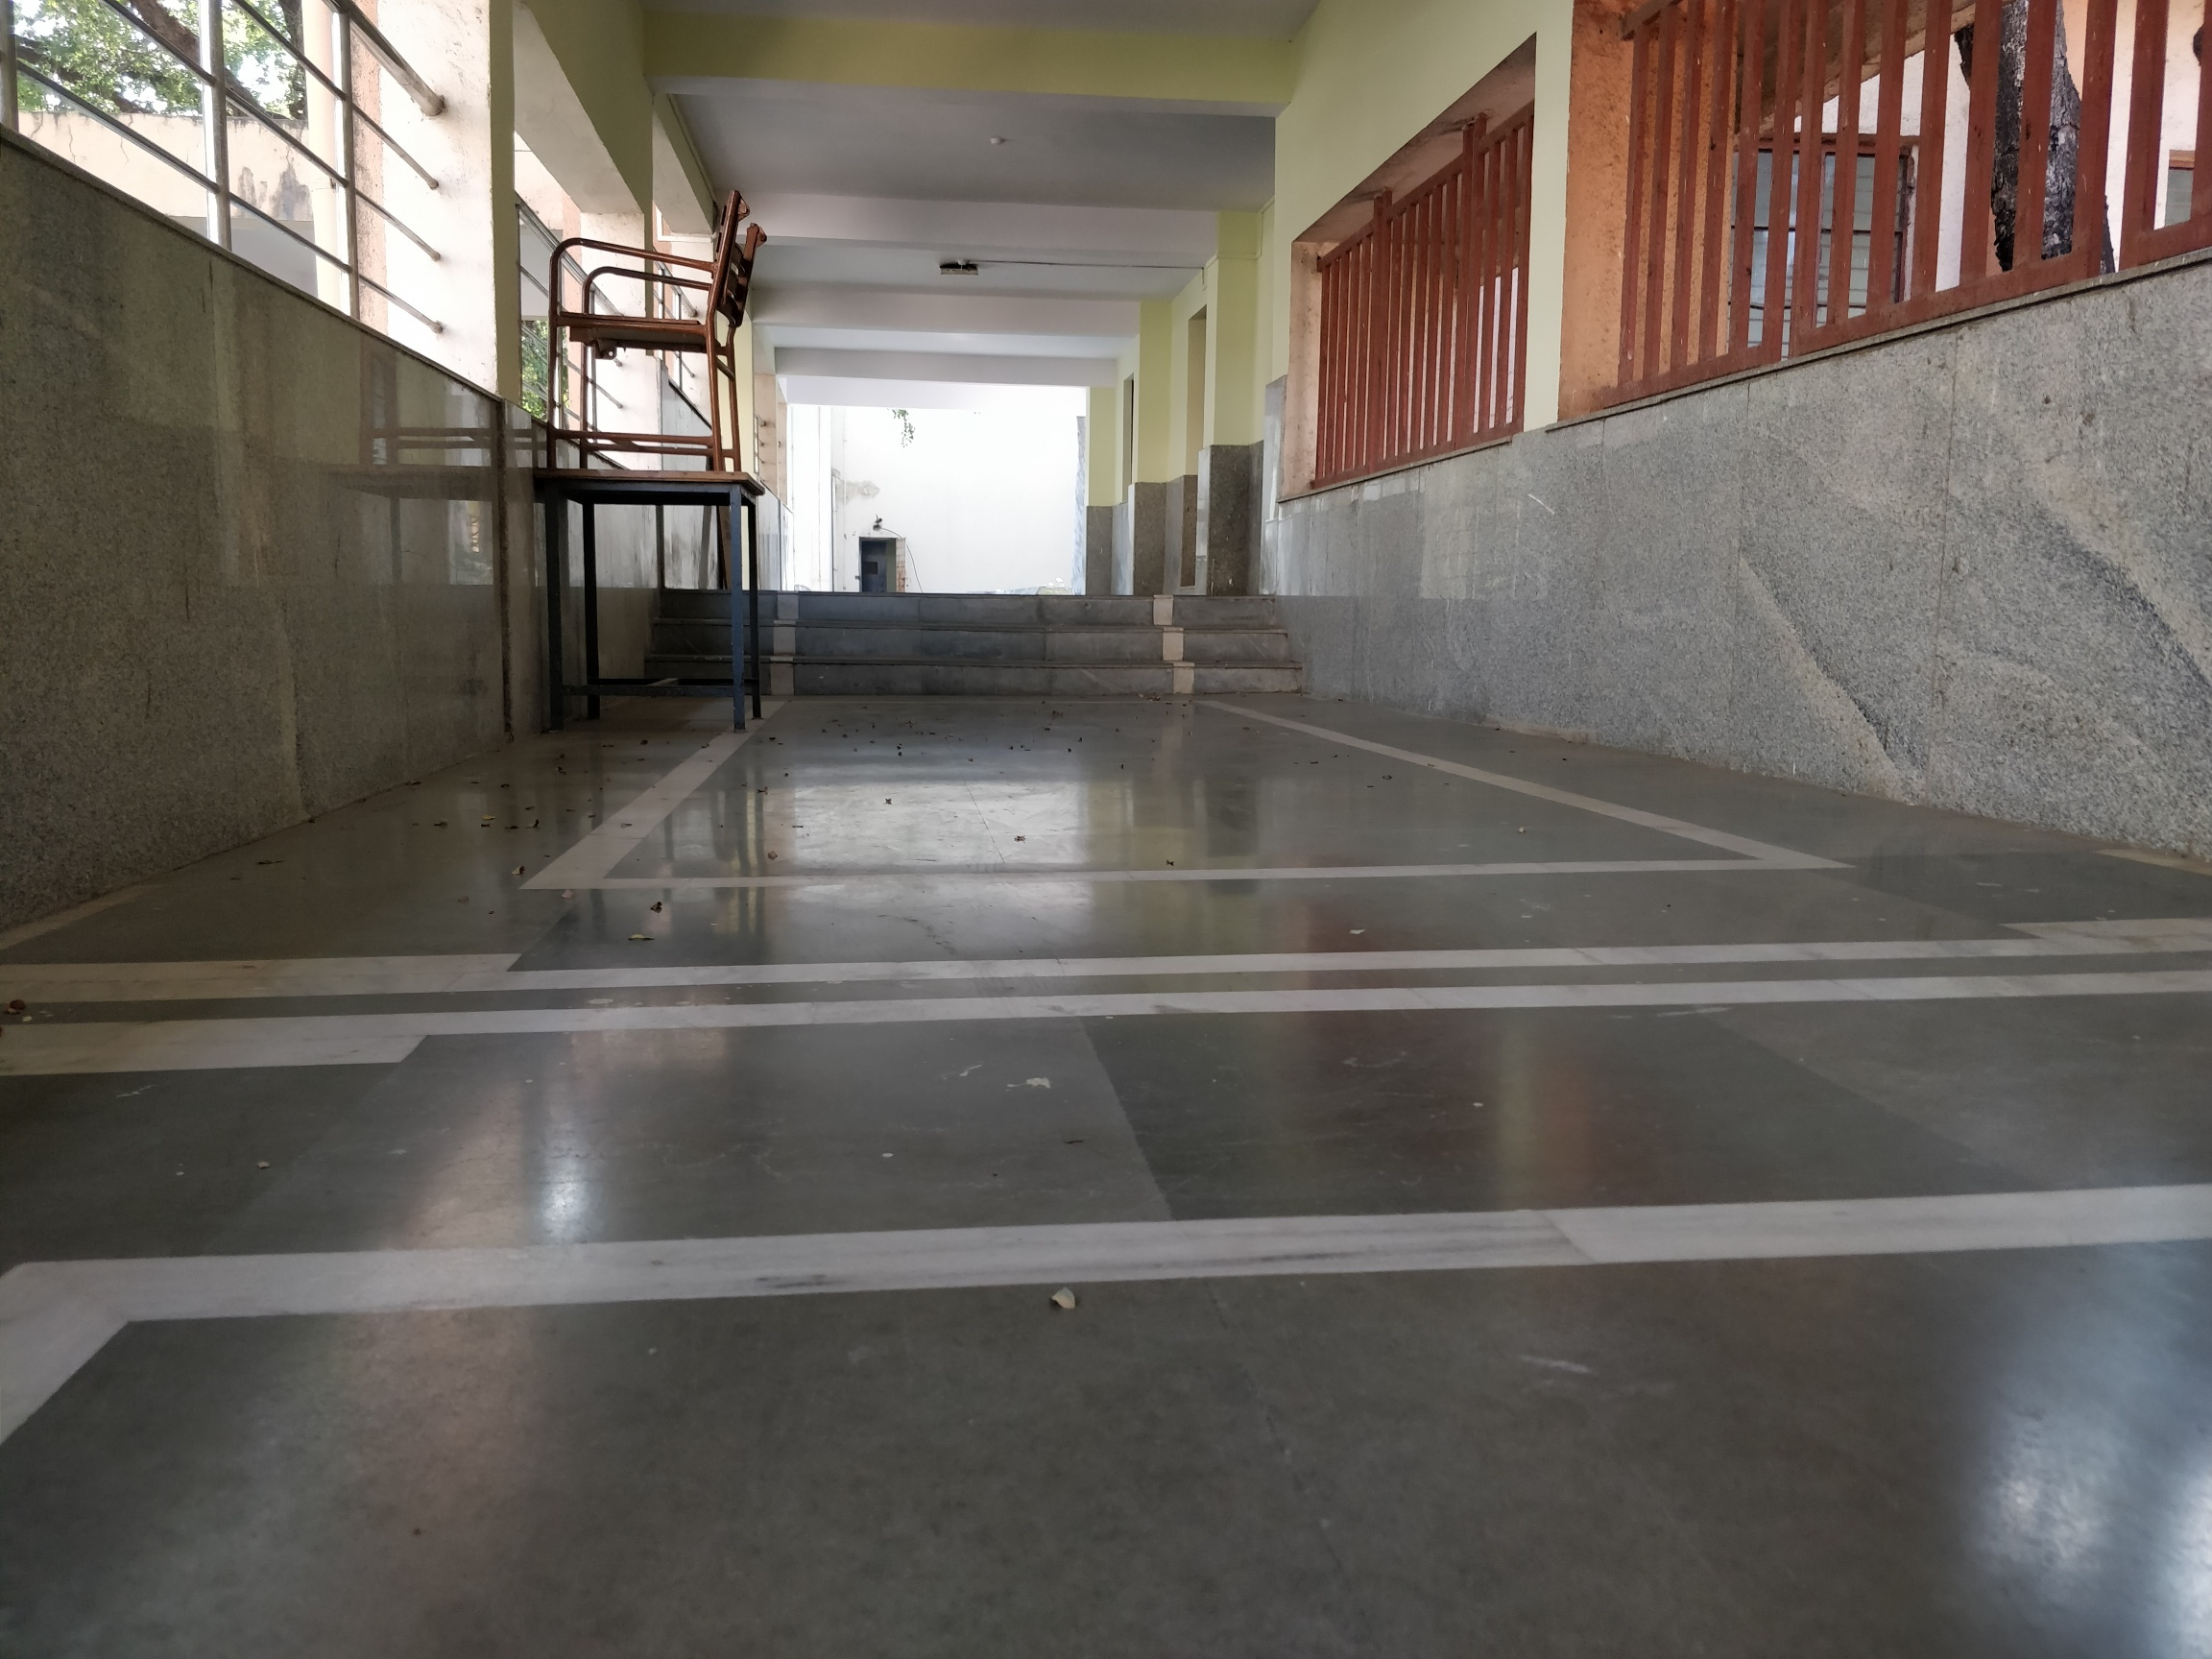stairs_up: (631, 575, 1315, 709)
